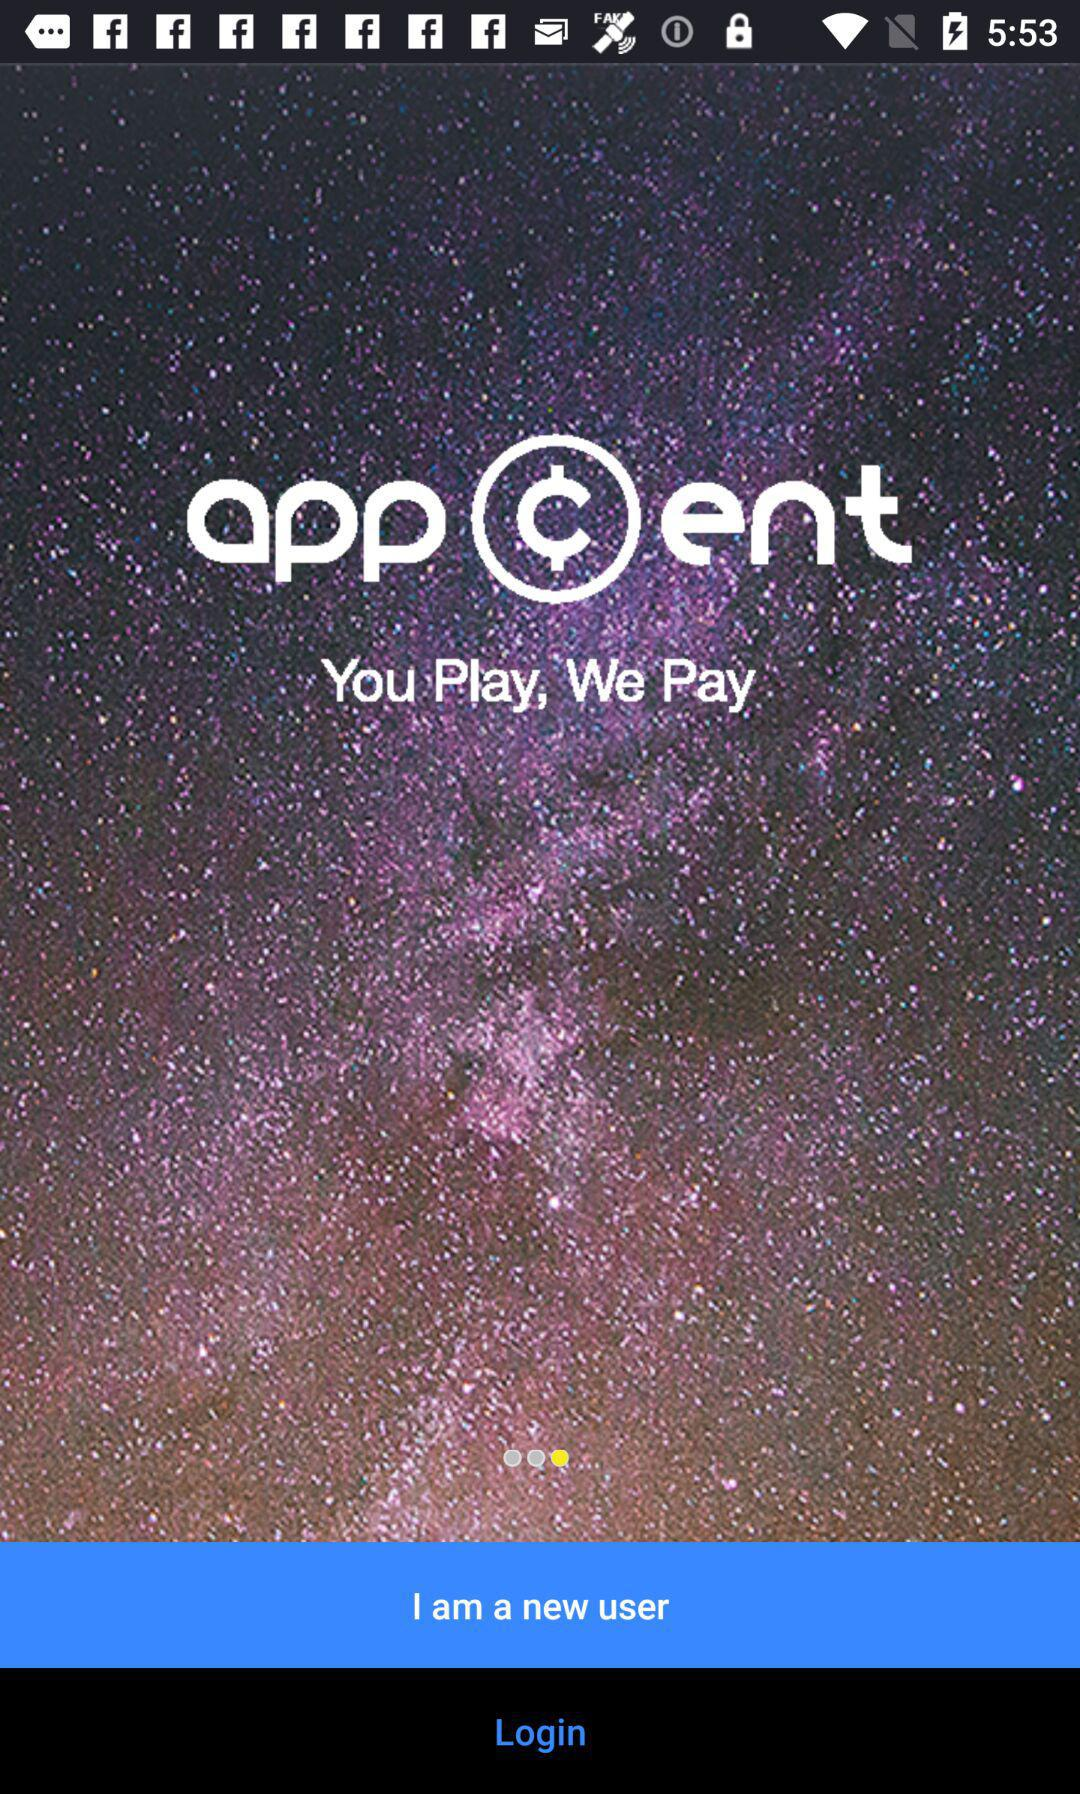BackgroundImage: (1, 64, 1080, 1542)
Image: (184, 434, 916, 607)
PageIndicator: (503, 1448, 570, 1469)
Text: (318, 657, 756, 719)
TextButton: (1, 1542, 1080, 1668), (1, 1668, 1080, 1794)
UpperTaskBar: (1, 1, 1080, 64)
